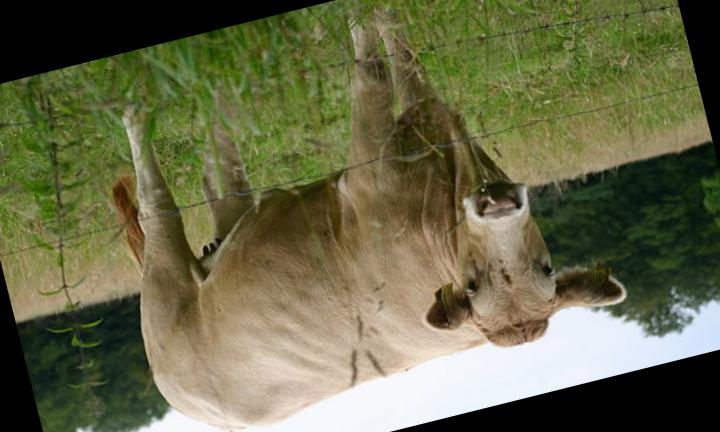Charolais: (113, 24, 625, 430)
